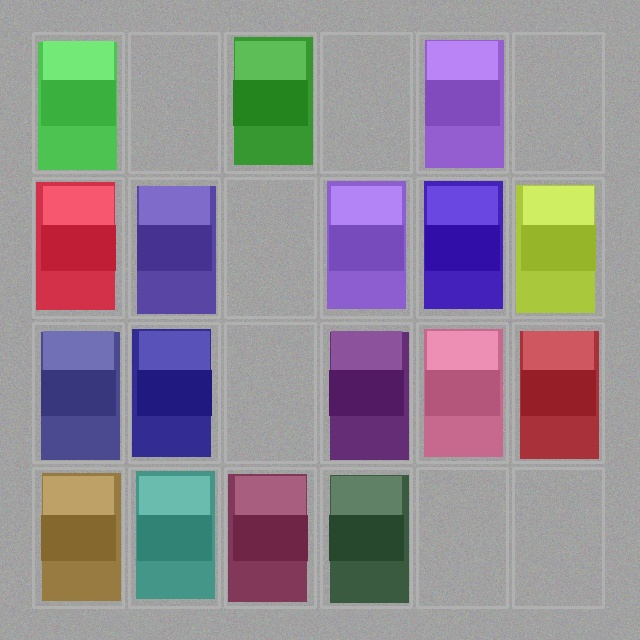space-empty: (131, 35, 217, 170), (323, 35, 409, 170), (515, 35, 601, 170), (227, 180, 313, 315), (227, 325, 313, 460), (419, 470, 505, 605), (515, 470, 601, 605)
space-occupied: (35, 35, 121, 170), (227, 35, 313, 170), (419, 35, 505, 170), (35, 180, 121, 315), (131, 180, 217, 315), (323, 180, 409, 315), (419, 180, 505, 315), (515, 180, 601, 315), (35, 325, 121, 460), (131, 325, 217, 460), (323, 325, 409, 460), (419, 325, 505, 460), (515, 325, 601, 460), (35, 470, 121, 605), (131, 470, 217, 605), (227, 470, 313, 605), (323, 470, 409, 605)
